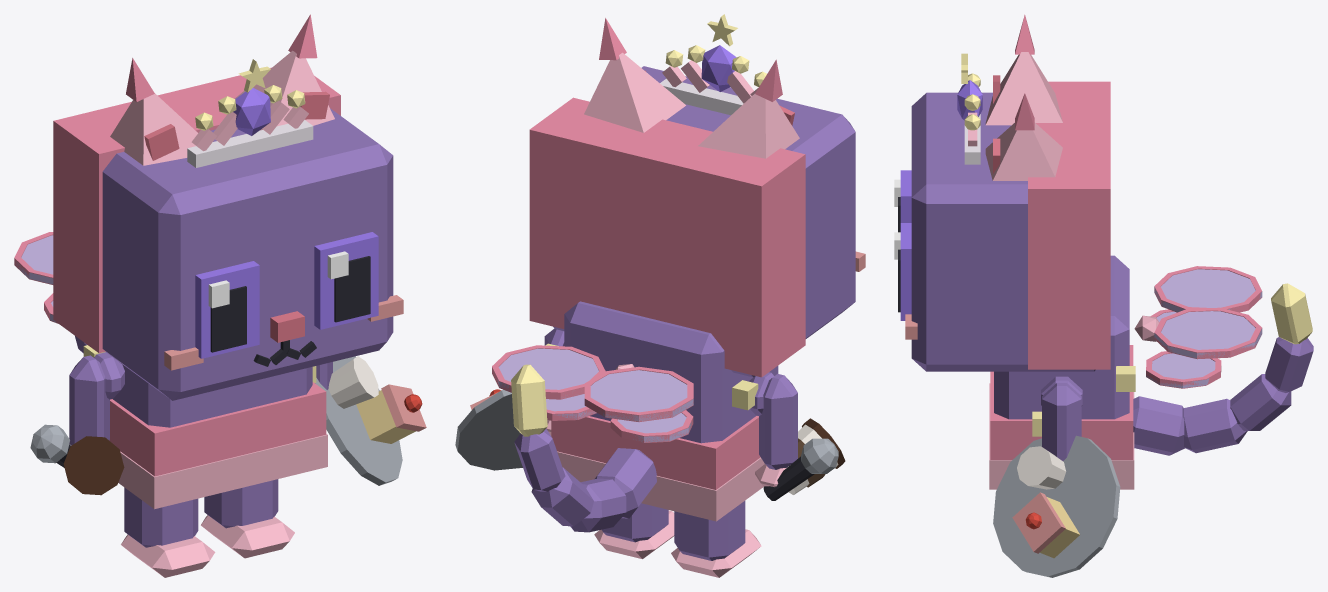
File: CatCafe_Cat_SugarPlum_Work.glb
3 renders of one model, left to right at view 1: azimuth 30°, elevation 25°; view 2: azimuth 150°, elevation 25°; view 3: azimuth 270°, elevation 25°, orthographic. The views are drawn at different scales.
Visible parts, largest first — view 1: CatCafe_Cat_SugarPlum_Work_Head, CatCafe_Cat_SugarPlum_Work_Body, CatCafe_Cat_SugarPlum_Work_Held_Waiter, CatCafe_Cat_SugarPlum_Work_Eye1, CatCafe_Cat_SugarPlum_Work_Eye2, CatCafe_Cat_SugarPlum_Work_LegB2, CatCafe_Cat_SugarPlum_Work_Prop, CatCafe_Cat_SugarPlum_Work_LegB1, CatCafe_Cat_SugarPlum_Work_EarR, CatCafe_Cat_SugarPlum_Work_EarL, CatCafe_Cat_SugarPlum_Work_LegF2, CatCafe_Cat_SugarPlum_Work_Held_Barista (+4 smaller); view 2: CatCafe_Cat_SugarPlum_Work_Head, CatCafe_Cat_SugarPlum_Work_Body, CatCafe_Cat_SugarPlum_Work_Tail, CatCafe_Cat_SugarPlum_Work_Prop2, CatCafe_Cat_SugarPlum_Work_EarL, CatCafe_Cat_SugarPlum_Work_EarR, CatCafe_Cat_SugarPlum_Work_Wings_Glow, CatCafe_Cat_SugarPlum_Work_LegB2, CatCafe_Cat_SugarPlum_Work_Held_Waiter, CatCafe_Cat_SugarPlum_Work_LegF2, CatCafe_Cat_SugarPlum_Work_Prop, CatCafe_Cat_SugarPlum_Work_LegB1 (+3 smaller); view 3: CatCafe_Cat_SugarPlum_Work_Head, CatCafe_Cat_SugarPlum_Work_Held_Waiter, CatCafe_Cat_SugarPlum_Work_Body, CatCafe_Cat_SugarPlum_Work_Tail, CatCafe_Cat_SugarPlum_Work_Prop2, CatCafe_Cat_SugarPlum_Work_EarR, CatCafe_Cat_SugarPlum_Work_EarL, CatCafe_Cat_SugarPlum_Work_Wings_Glow, CatCafe_Cat_SugarPlum_Work_LegF1, CatCafe_Cat_SugarPlum_Work_Eye1, CatCafe_Cat_SugarPlum_Work_Prop, CatCafe_Cat_SugarPlum_Work_Eye2 (+1 smaller).
Part boxes in pixels (x1,y1,x2,y2): CatCafe_Cat_SugarPlum_Work_Head: (53, 67, 403, 400); CatCafe_Cat_SugarPlum_Work_Body: (83, 345, 327, 509); CatCafe_Cat_SugarPlum_Work_Held_Waiter: (315, 356, 426, 485); CatCafe_Cat_SugarPlum_Work_Eye1: (314, 232, 378, 329); CatCafe_Cat_SugarPlum_Work_Eye2: (195, 261, 259, 358); CatCafe_Cat_SugarPlum_Work_LegB2: (121, 487, 215, 577); CatCafe_Cat_SugarPlum_Work_Prop: (187, 85, 313, 167); CatCafe_Cat_SugarPlum_Work_LegB1: (201, 479, 294, 558); CatCafe_Cat_SugarPlum_Work_EarR: (110, 58, 197, 165); CatCafe_Cat_SugarPlum_Work_EarL: (234, 14, 334, 130); CatCafe_Cat_SugarPlum_Work_LegF2: (69, 355, 109, 445); CatCafe_Cat_SugarPlum_Work_Held_Barista: (63, 436, 124, 495); CatCafe_Cat_SugarPlum_Work_Head: (529, 66, 865, 377); CatCafe_Cat_SugarPlum_Work_Body: (545, 301, 778, 521); CatCafe_Cat_SugarPlum_Work_Tail: (511, 364, 656, 532); CatCafe_Cat_SugarPlum_Work_Prop2: (497, 348, 693, 442); CatCafe_Cat_SugarPlum_Work_EarL: (584, 18, 685, 132); CatCafe_Cat_SugarPlum_Work_EarR: (698, 59, 799, 158); CatCafe_Cat_SugarPlum_Work_Wings_Glow: (492, 345, 693, 442); CatCafe_Cat_SugarPlum_Work_LegB2: (671, 501, 761, 577); CatCafe_Cat_SugarPlum_Work_Held_Waiter: (455, 389, 522, 470); CatCafe_Cat_SugarPlum_Work_LegF2: (755, 374, 797, 487); CatCafe_Cat_SugarPlum_Work_Prop: (660, 45, 766, 115); CatCafe_Cat_SugarPlum_Work_LegB1: (594, 503, 674, 559); CatCafe_Cat_SugarPlum_Work_Head: (905, 81, 1110, 371); CatCafe_Cat_SugarPlum_Work_Held_Waiter: (993, 435, 1120, 577); CatCafe_Cat_SugarPlum_Work_Body: (989, 255, 1135, 489); CatCafe_Cat_SugarPlum_Work_Tail: (1133, 283, 1313, 455); CatCafe_Cat_SugarPlum_Work_Prop2: (1134, 269, 1262, 388); CatCafe_Cat_SugarPlum_Work_EarR: (985, 14, 1062, 125); CatCafe_Cat_SugarPlum_Work_EarL: (985, 93, 1062, 180); CatCafe_Cat_SugarPlum_Work_Wings_Glow: (1146, 266, 1262, 388); CatCafe_Cat_SugarPlum_Work_LegF1: (1042, 383, 1081, 460); CatCafe_Cat_SugarPlum_Work_Eye1: (894, 223, 911, 320); CatCafe_Cat_SugarPlum_Work_Prop: (964, 73, 980, 164); CatCafe_Cat_SugarPlum_Work_Eye2: (894, 170, 911, 232).
Size of the model in its own units: 1.53 by 2.03 by 1.62.
Materials: 1 (1 with a texture image).
